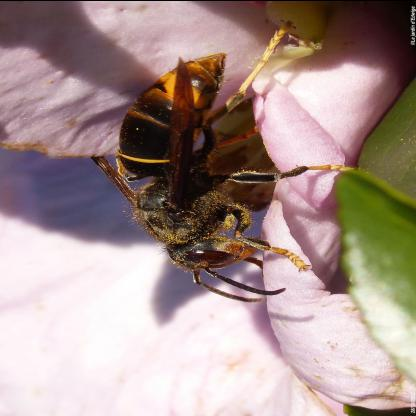asian: (114, 24, 370, 322)
